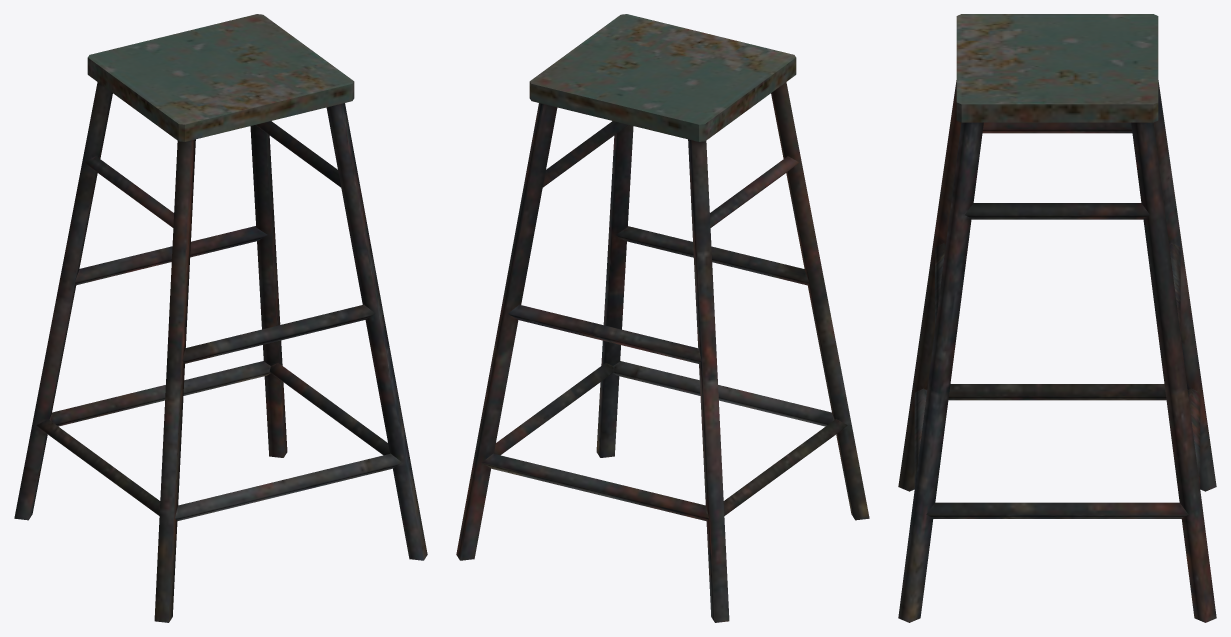
The model's file is LongMetalStool.FBX.
3 views of the same model, side by side, from view 1: azimuth 30°, elevation 25°; view 2: azimuth 150°, elevation 25°; view 3: azimuth 270°, elevation 25° (orthographic). The views are drawn at different scales.
Parts seen in each view (by area): view 1: LongMetalStool; view 2: LongMetalStool; view 3: LongMetalStool.
Part boxes in pixels (bbox=[...]): LongMetalStool: bbox=[14, 14, 427, 622]; LongMetalStool: bbox=[456, 14, 869, 622]; LongMetalStool: bbox=[898, 14, 1216, 622].
Size of the model in its own units: 70.41 by 115 by 67.32.
